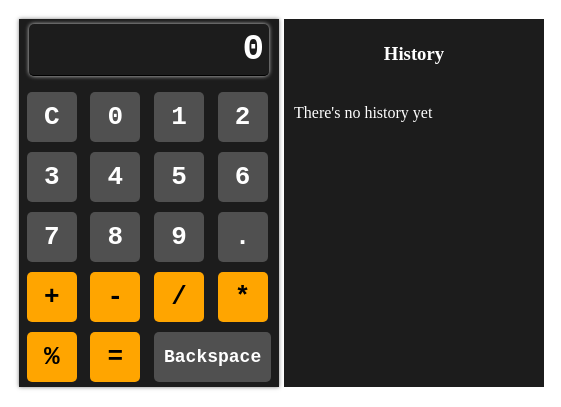
Addition perform
The width and height of the screenshot is (561, 407).
Click the button "1".
click(179, 117)  # box [154, 92, 204, 142]
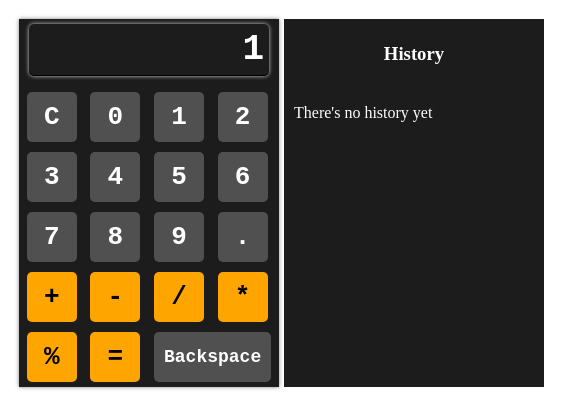
Now the text with test id "OutputScreen" reads "1", box [242, 29, 264, 70]
Click the button "+".
click(52, 297)  # box [27, 272, 77, 322]
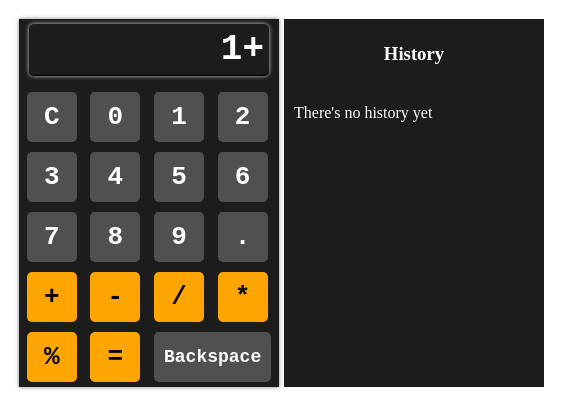
Now the text with test id "OutputScreen" reads "1+", box [221, 29, 264, 70]
Click the button "2".
click(243, 117)  # box [218, 92, 268, 142]
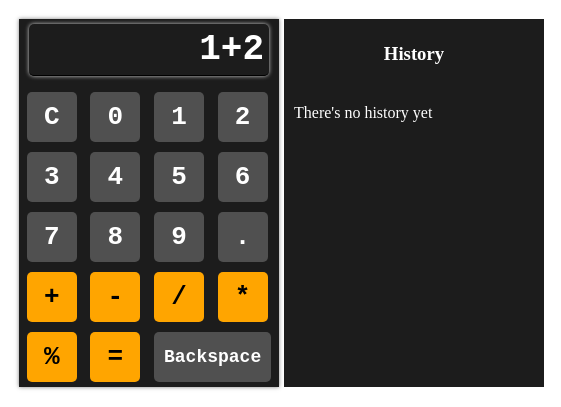
Now the text with test id "OutputScreen" reads "1+2", box [199, 29, 264, 70]
Click the button "=".
click(115, 357)  # box [90, 332, 140, 382]
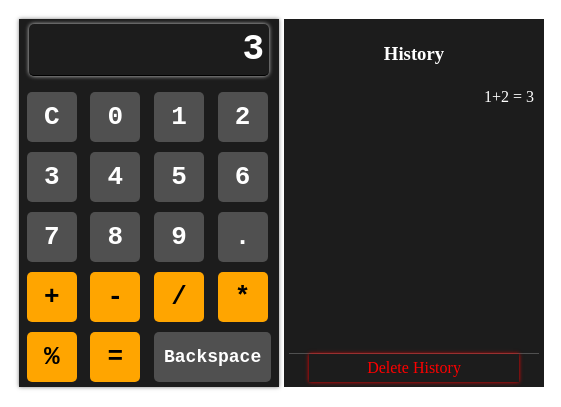
Now the text with test id "OutputScreen" reads "3", box [242, 29, 264, 70]
